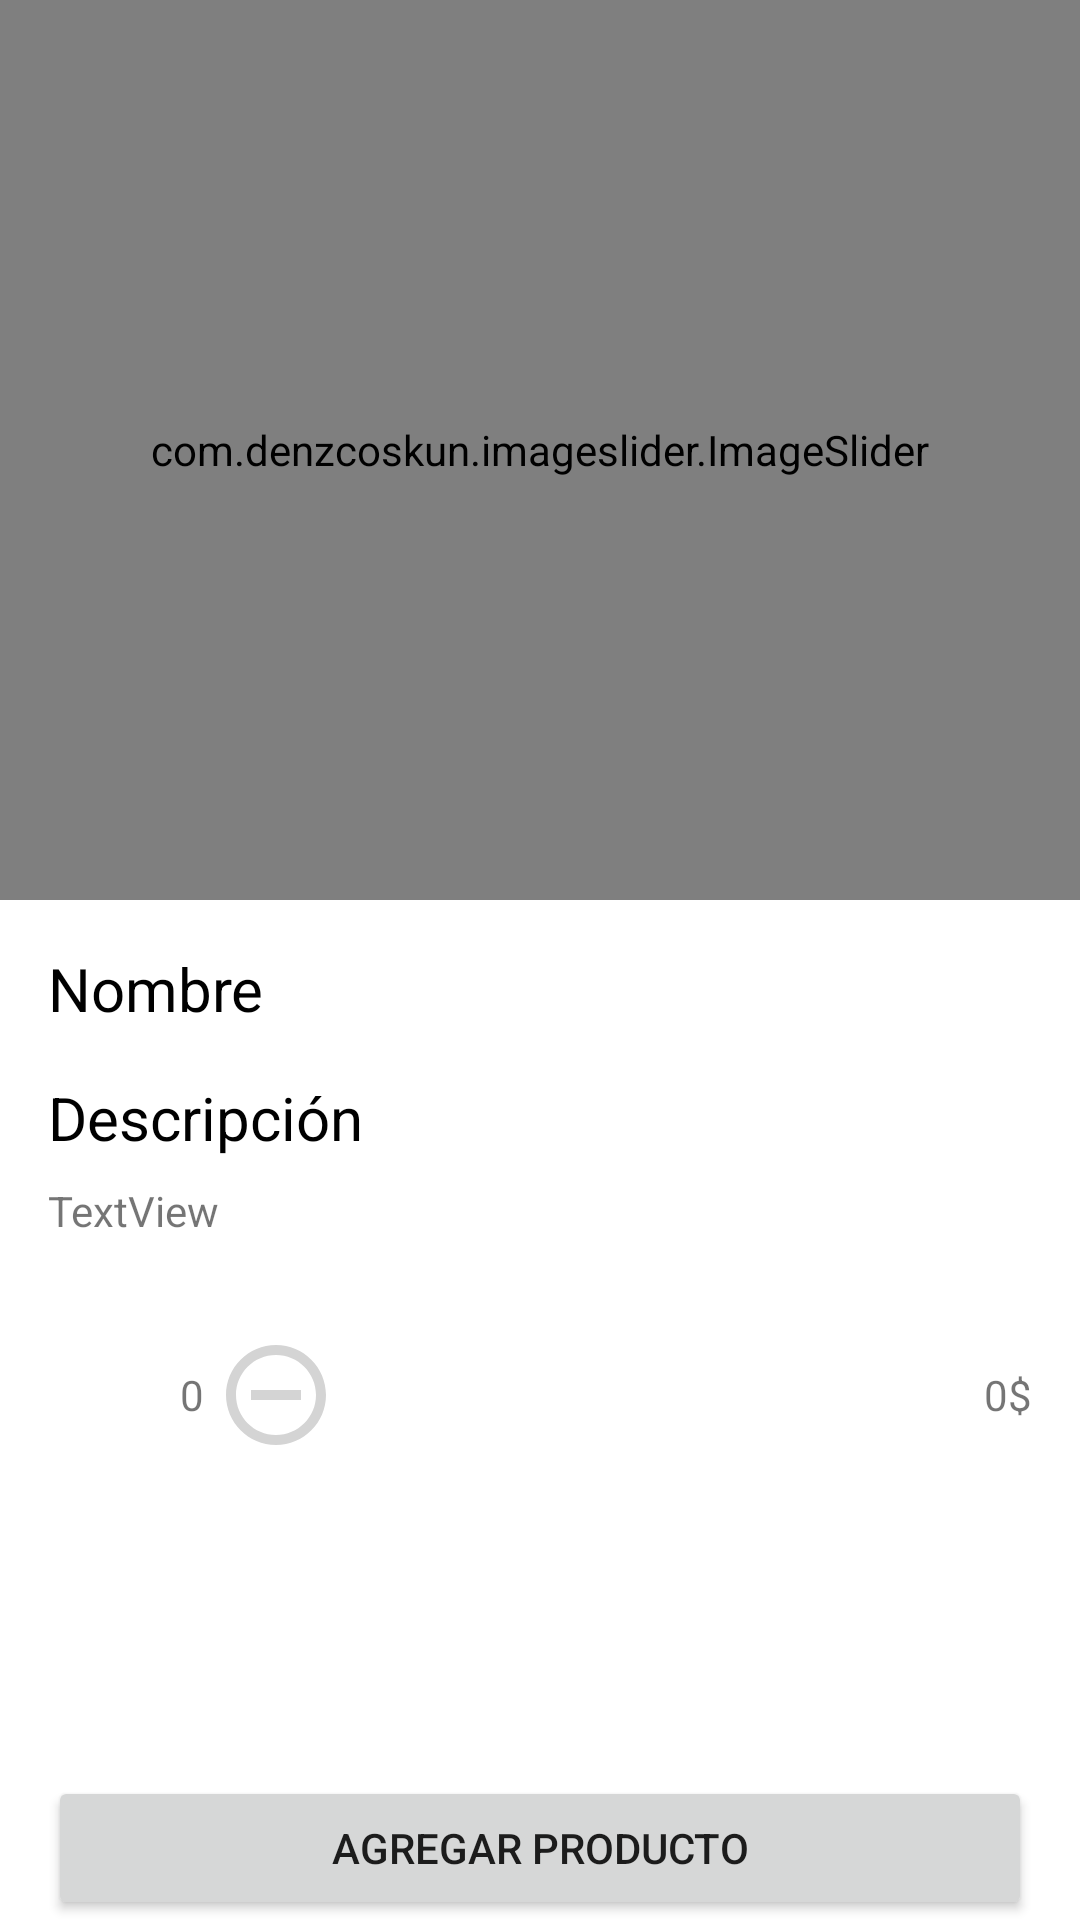

Where to tap for icons on this 1080px x 1920px app screen, as (x,y):
circle negative: (276,1395)
